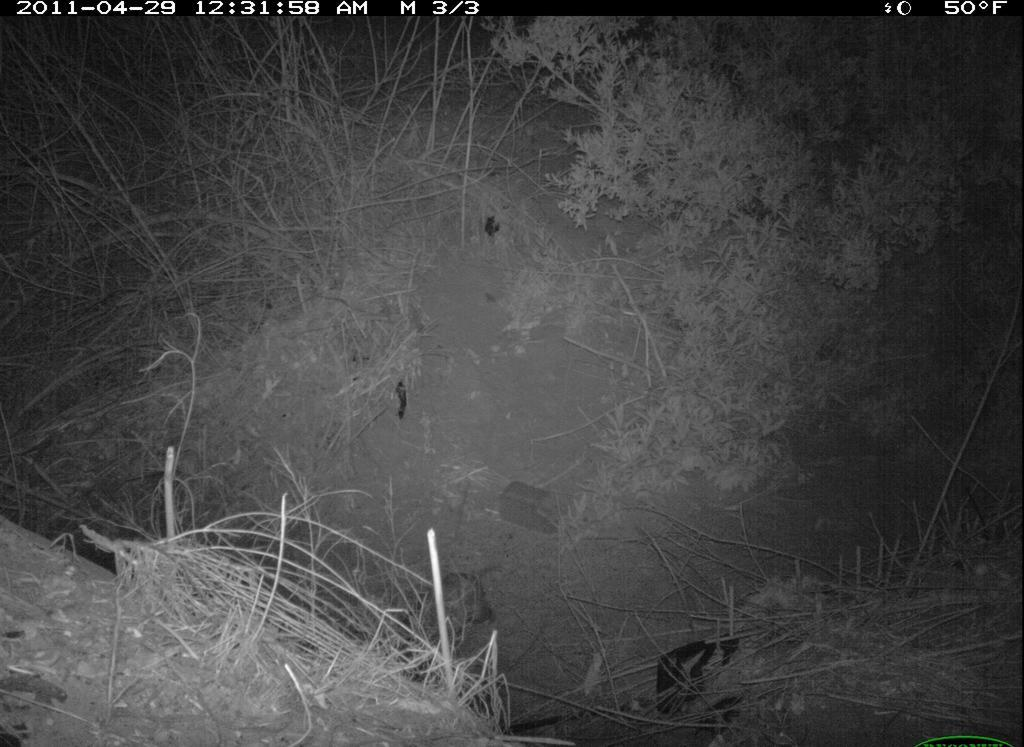opossum: (385, 552, 513, 655)
